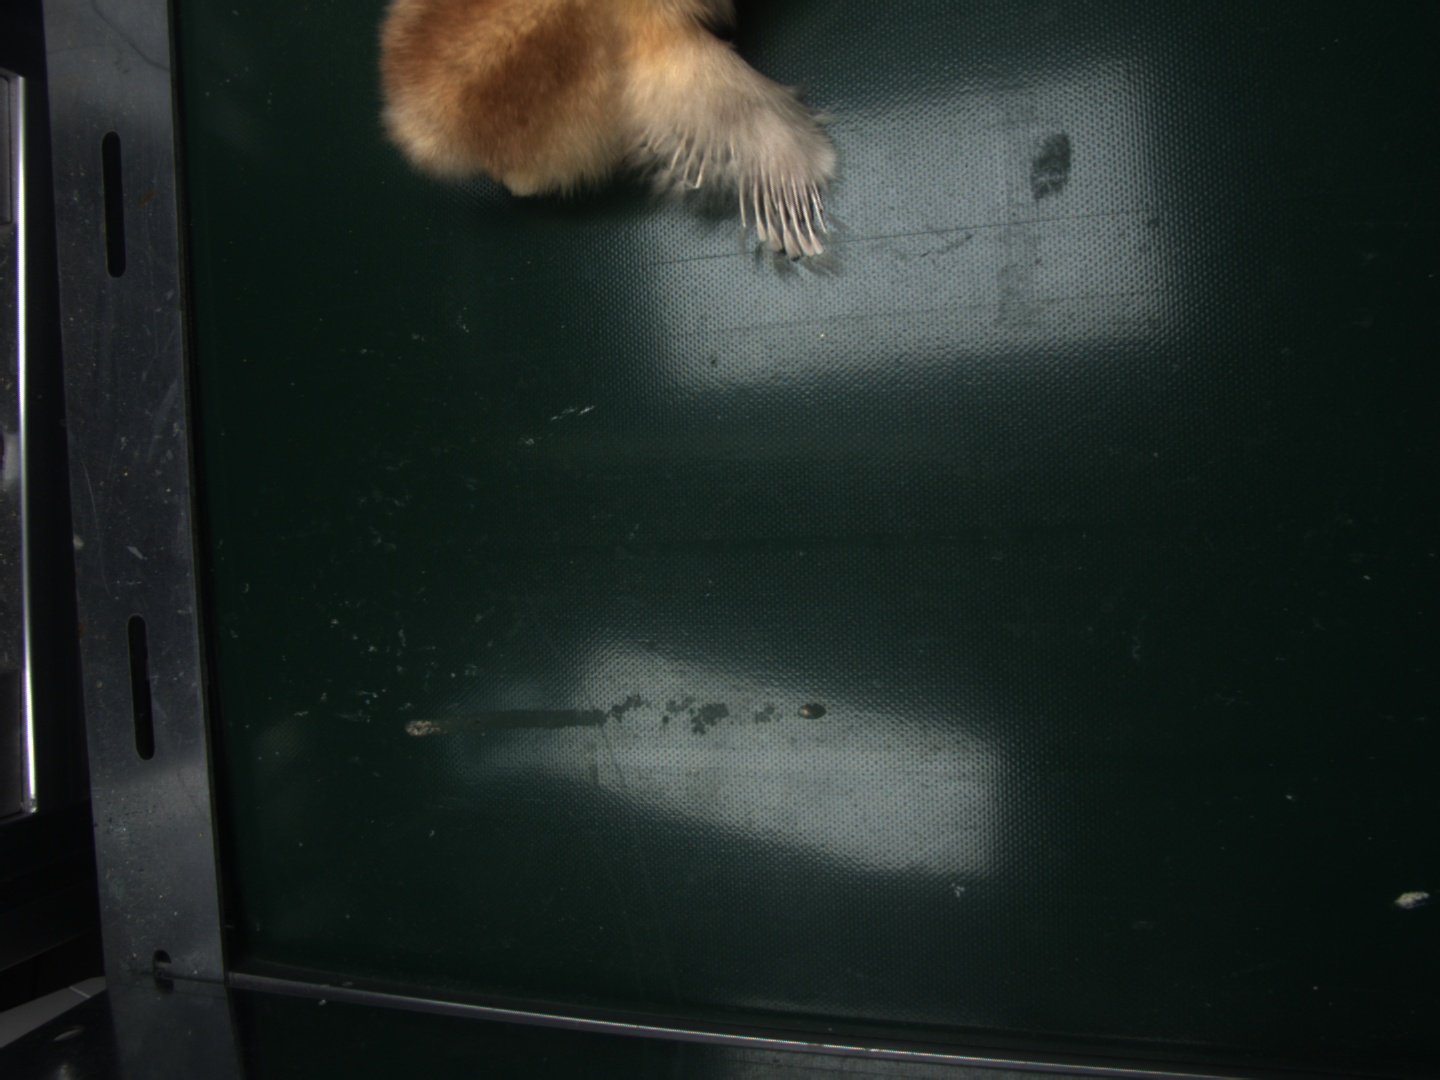female: (742, 169, 830, 258)
